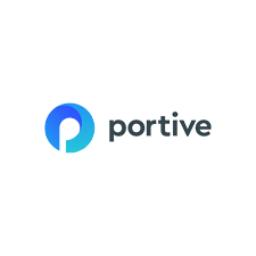p: (108, 119, 128, 141)
